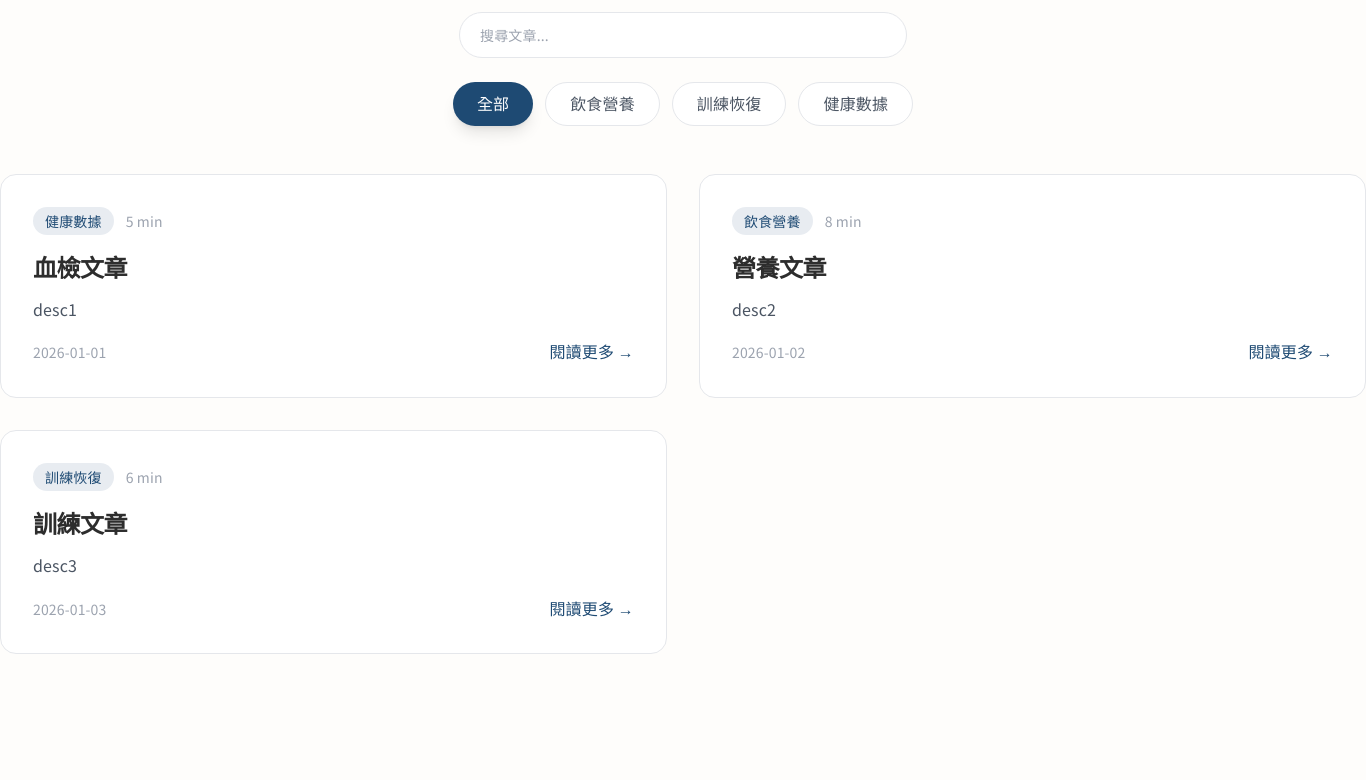
it: BlogFilter › filters posts when a category is clicked
The width and height of the screenshot is (1366, 780).
Step 1. Click the button with aria-label "篩選健康數據分類" → (856, 104), box x1=798 y1=82 x2=913 y2=126
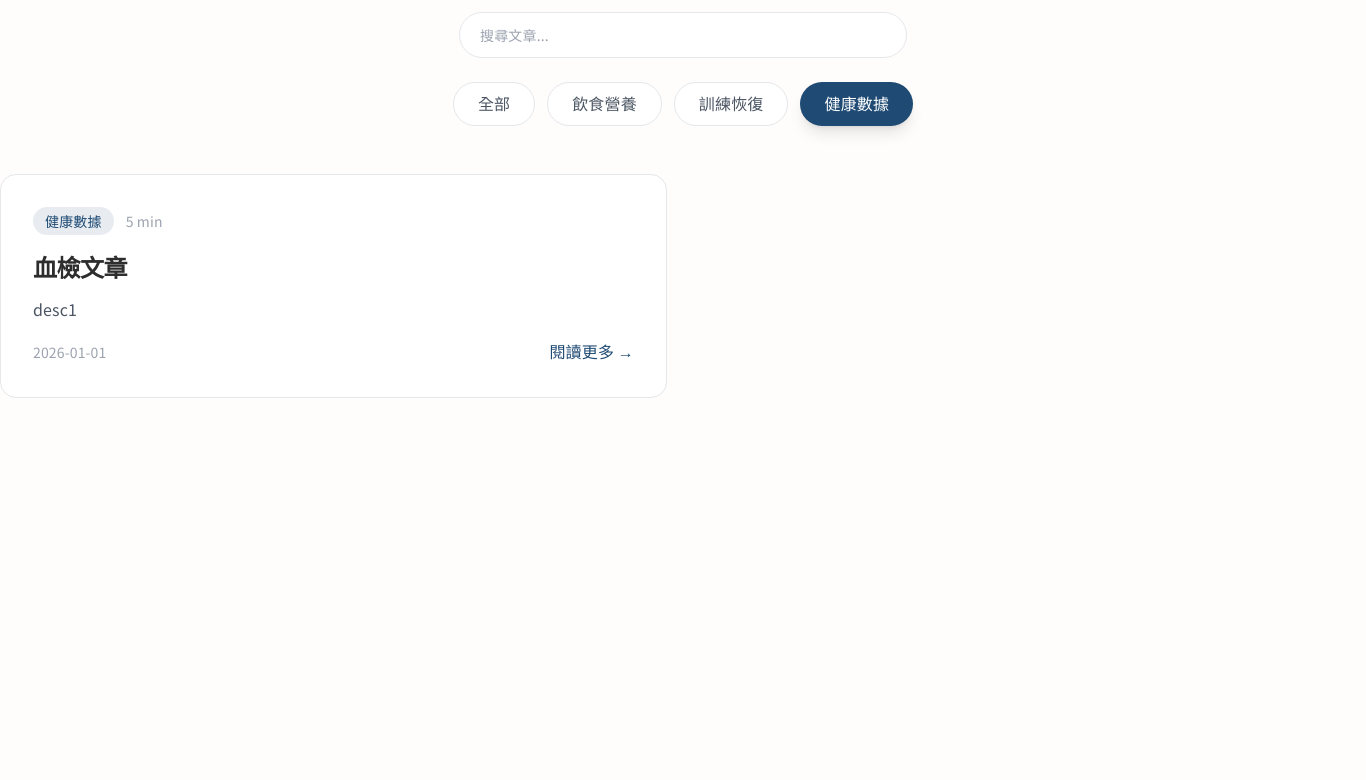
Expected: the heading "血檢文章" is shown, x1=33 y1=251 x2=127 y2=283
Now the link "營養文章" is gone
Now the link "訓練文章" is gone
